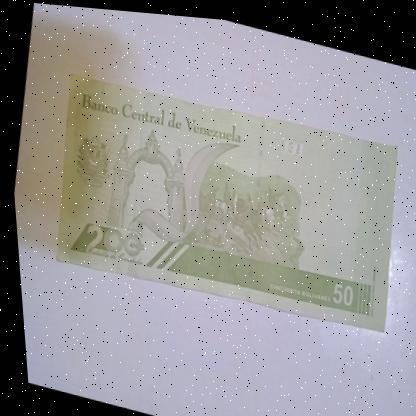fifty-back-vef: (32, 56, 413, 343)
